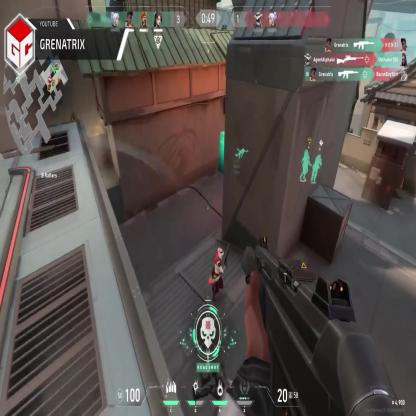enemy: (209, 244, 225, 301)
enemy_head: (218, 248, 224, 260)
